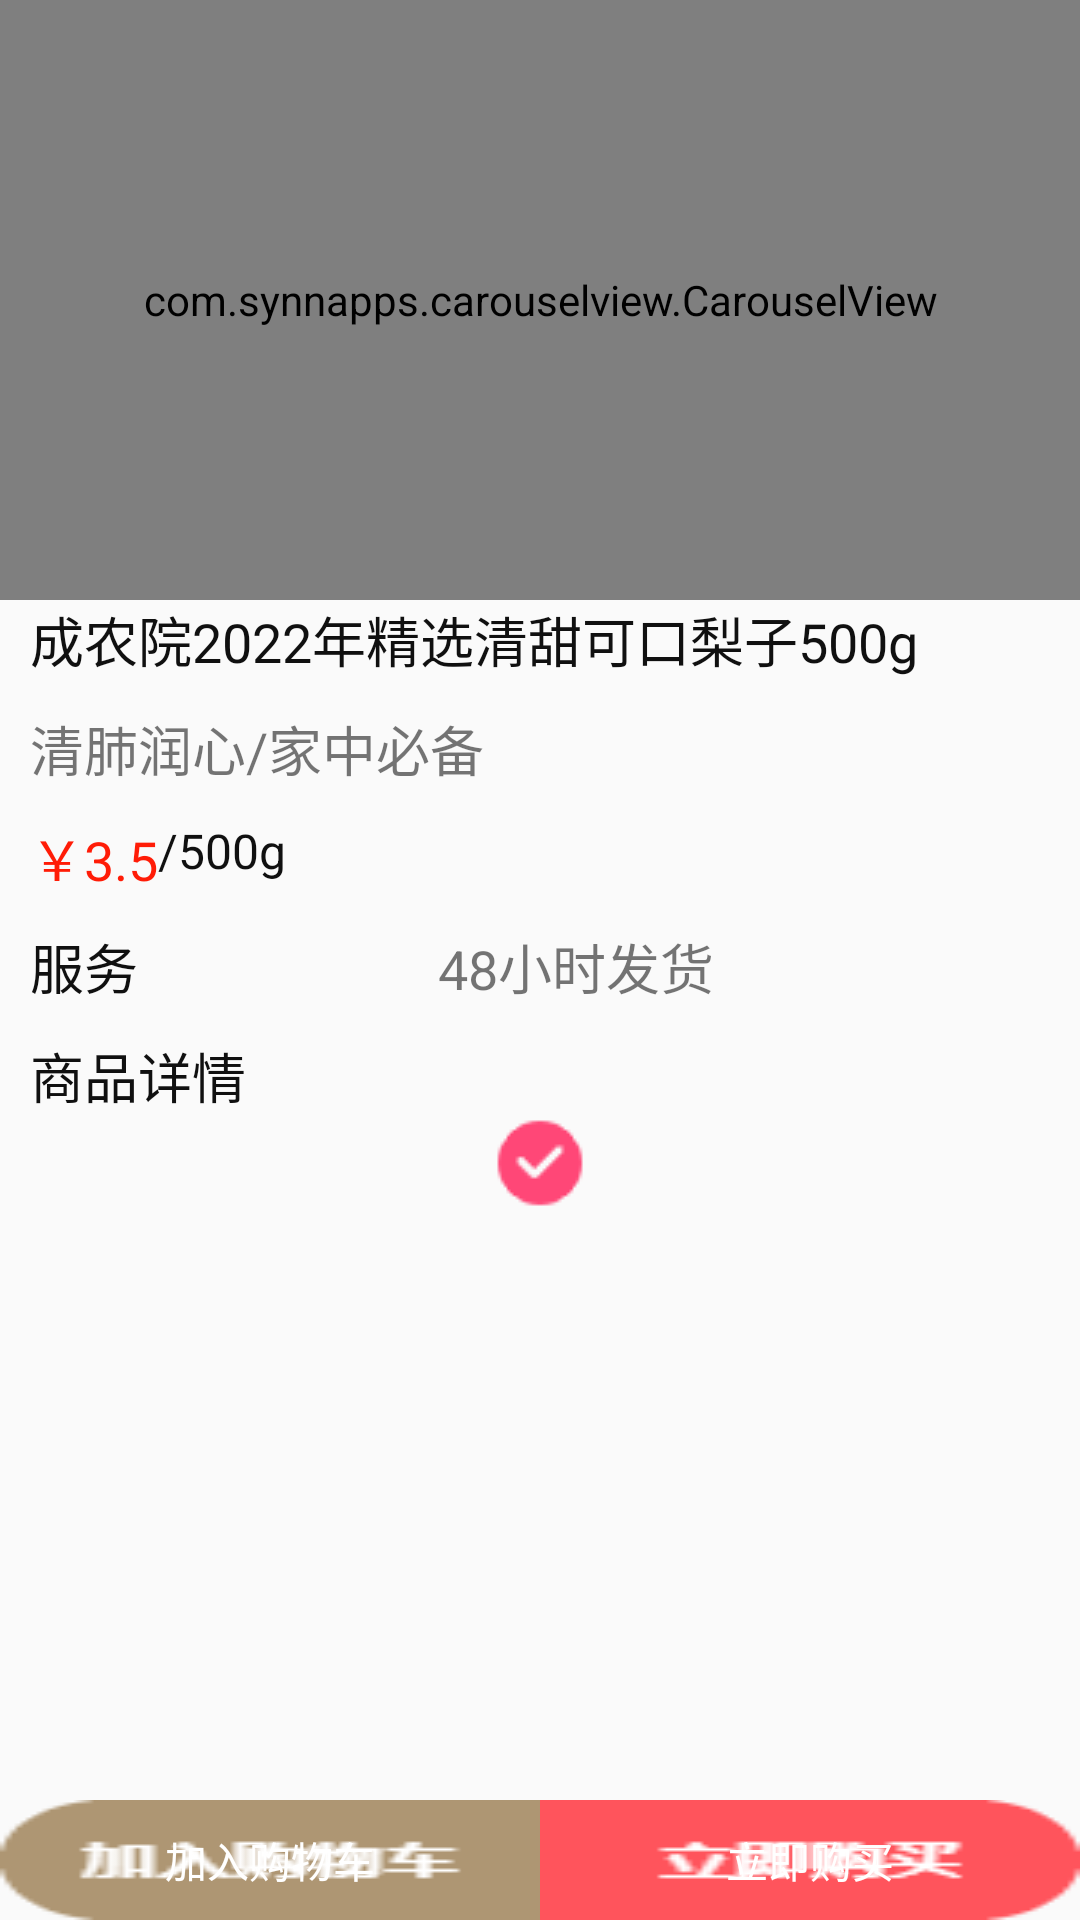

Point at icon controls on the screen. Image size 1080w x 1920h, points as point (x, y).
duanxuanb: point (540, 1163)
